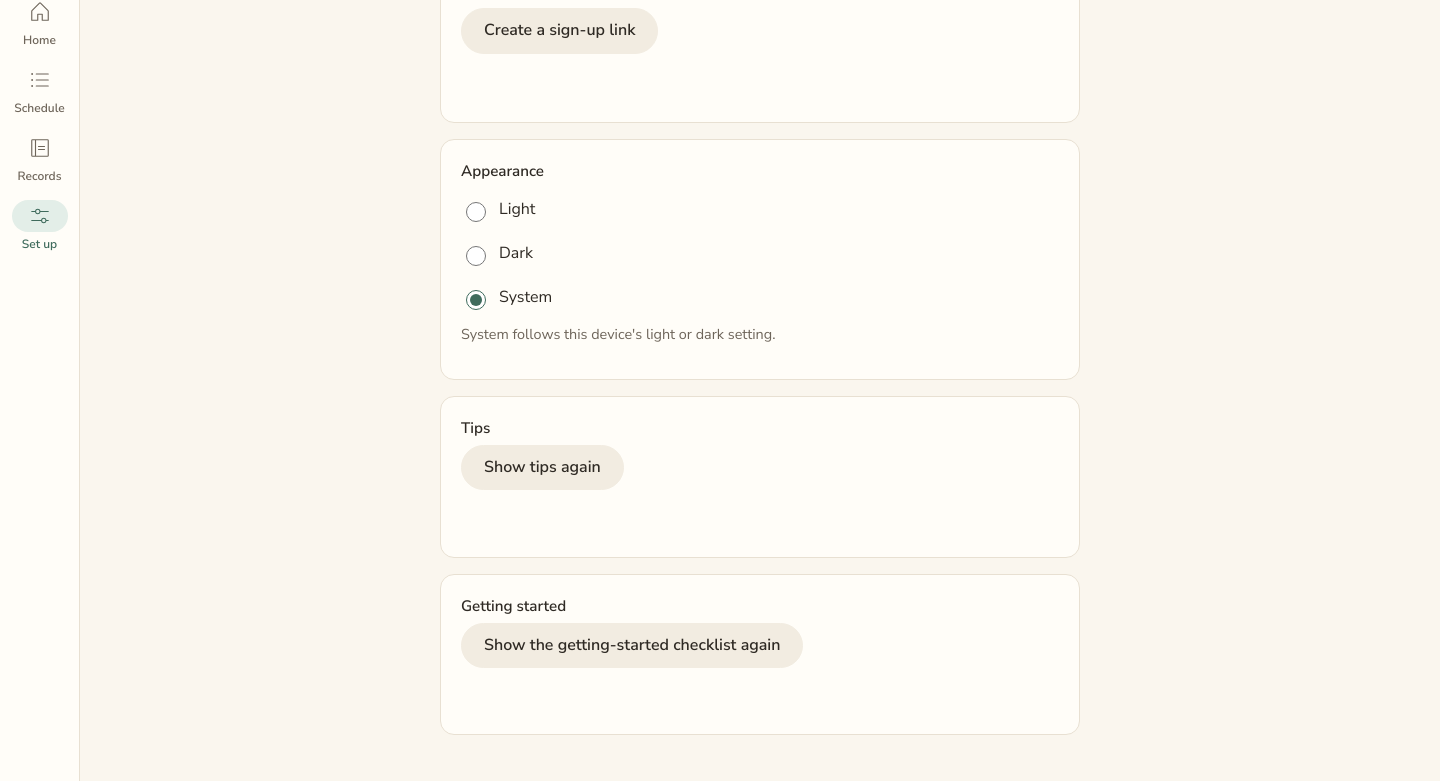
it: 2. Family settings offers the getting-started checklist again › is offered only while the checklist is hidden, and bringing it back clears the flag
This screenshot has width=1440, height=781.
(page scrolled)
What coordinates should you click on to do the following:
click the button "Show the getting-started checklist again"
I would click on:
 (632, 645)
Its box is [461,622,803,668].
(page scrolled)
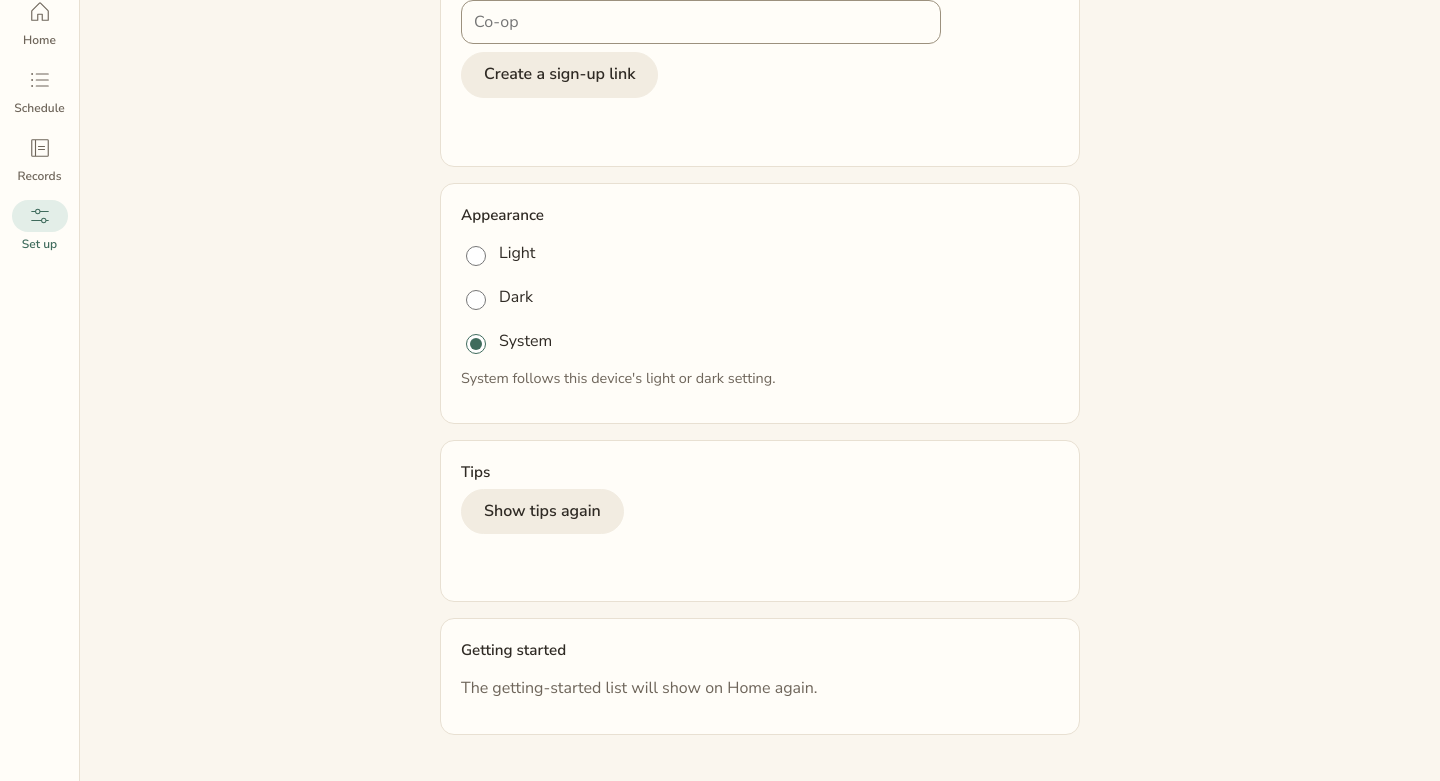
Now the text "The getting-started list will show on Home again." is shown, box [461,676,818,698]
Now the button "Show the getting-started checklist again" is gone
